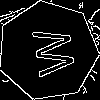W: (23, 25, 76, 79)
